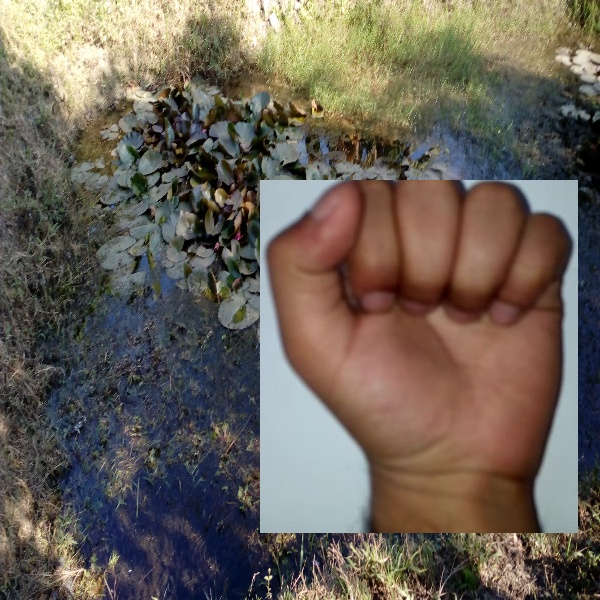A: (260, 180, 578, 533)
